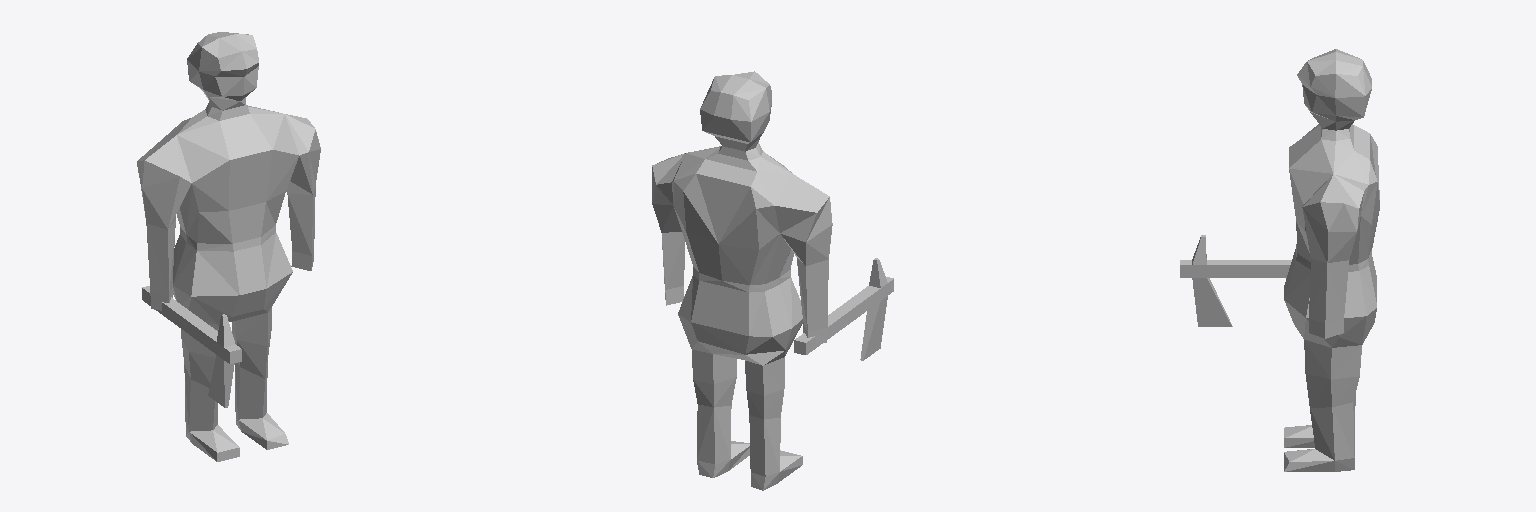
Rendered from man_axe.obj.
3 renders of one model, left to right at view 1: azimuth 30°, elevation 25°; view 2: azimuth 150°, elevation 25°; view 3: azimuth 270°, elevation 25°, orthographic.
Visible parts, largest first — view 1: Mesh; view 2: Mesh; view 3: Mesh.
Part boxes in pixels (x1,y1,x2,y2): Mesh: (137, 32, 320, 461); Mesh: (652, 71, 893, 490); Mesh: (1180, 49, 1379, 471).
Size of the model in its own units: 9.68 by 20.67 by 9.41.